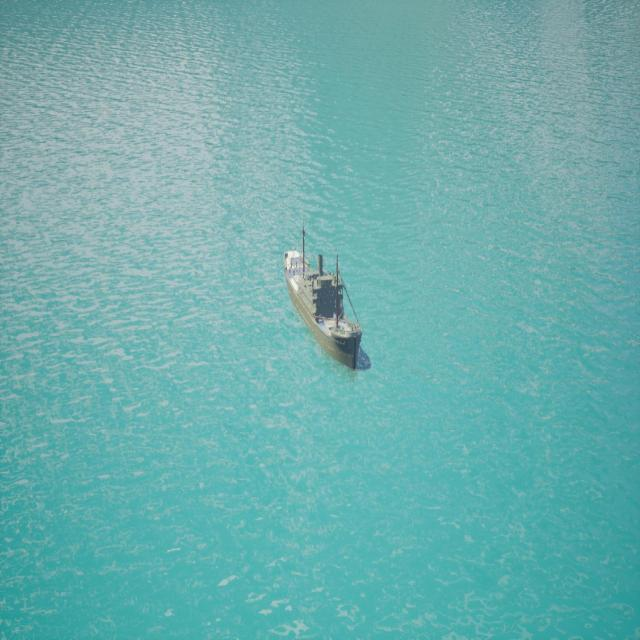fishing ship: (283, 251, 367, 375)
